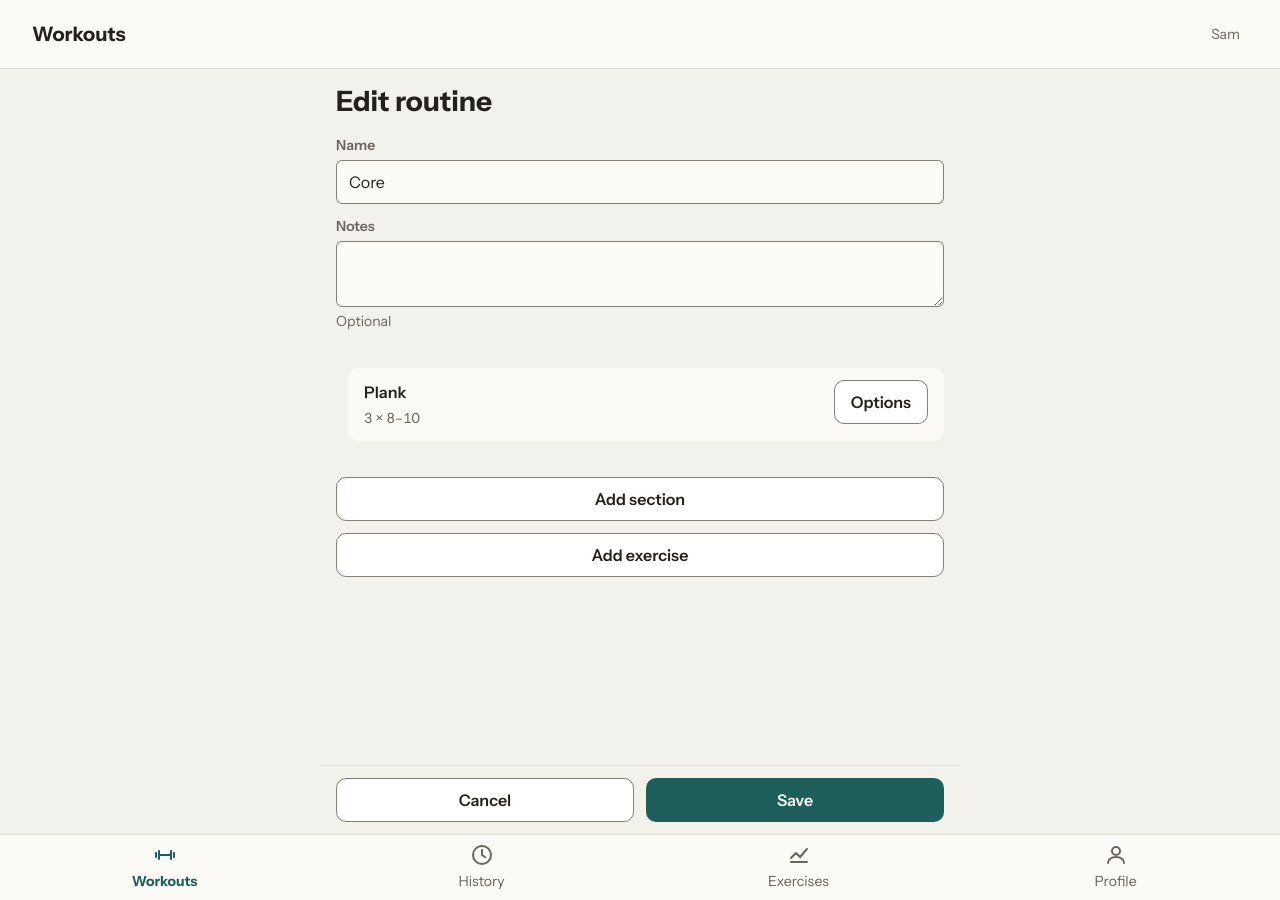
Test: 10.2 AC18 — opening and saving cleans stored values the exercise cannot carry › the sheet shows no Reps; the first Done is a real change (the discard dialog appears)
Click the button "Plank 3 × 8–10" at (385, 392), box 364,380 -> 822,429
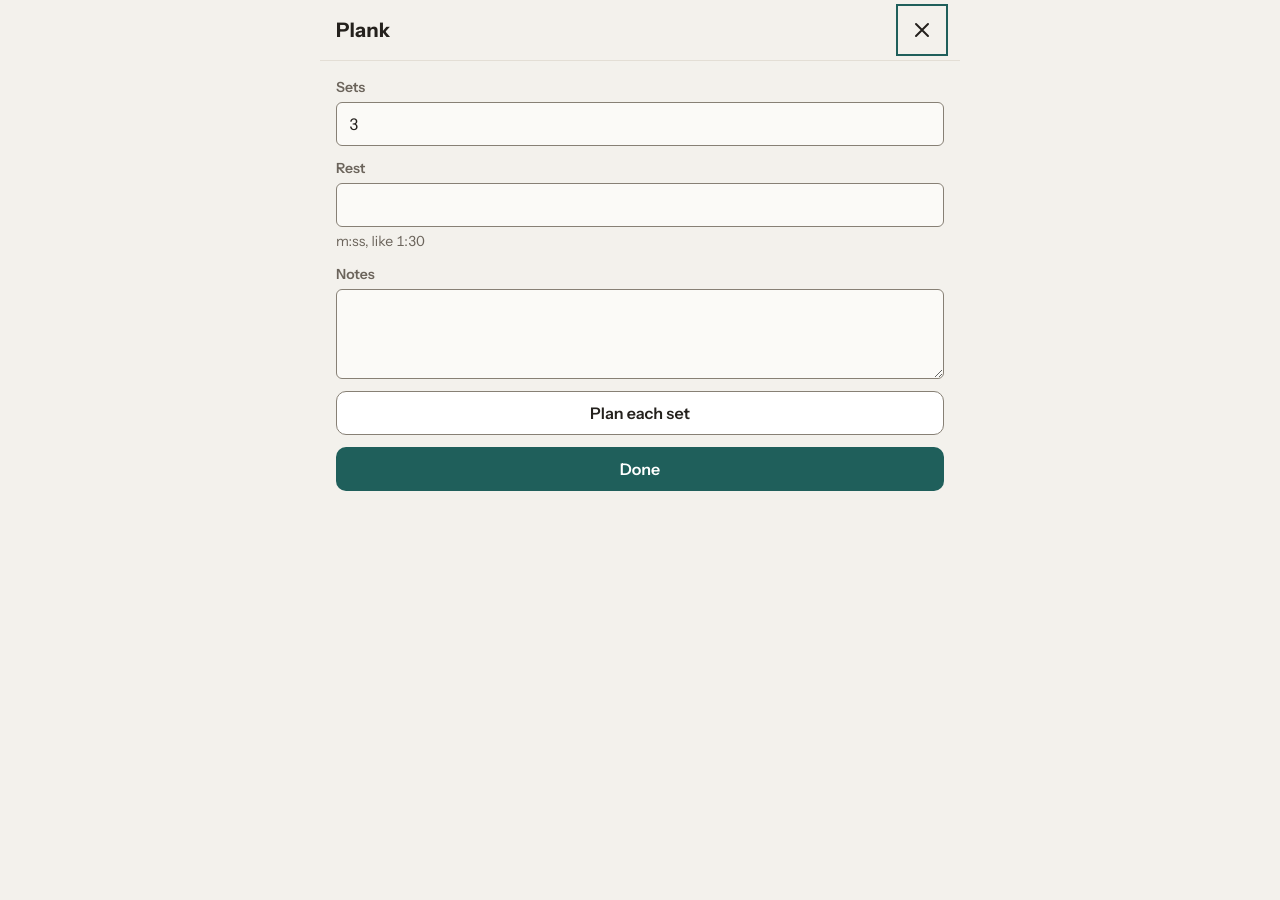
Click the button "Done" at (640, 469), box 336,447 -> 944,491
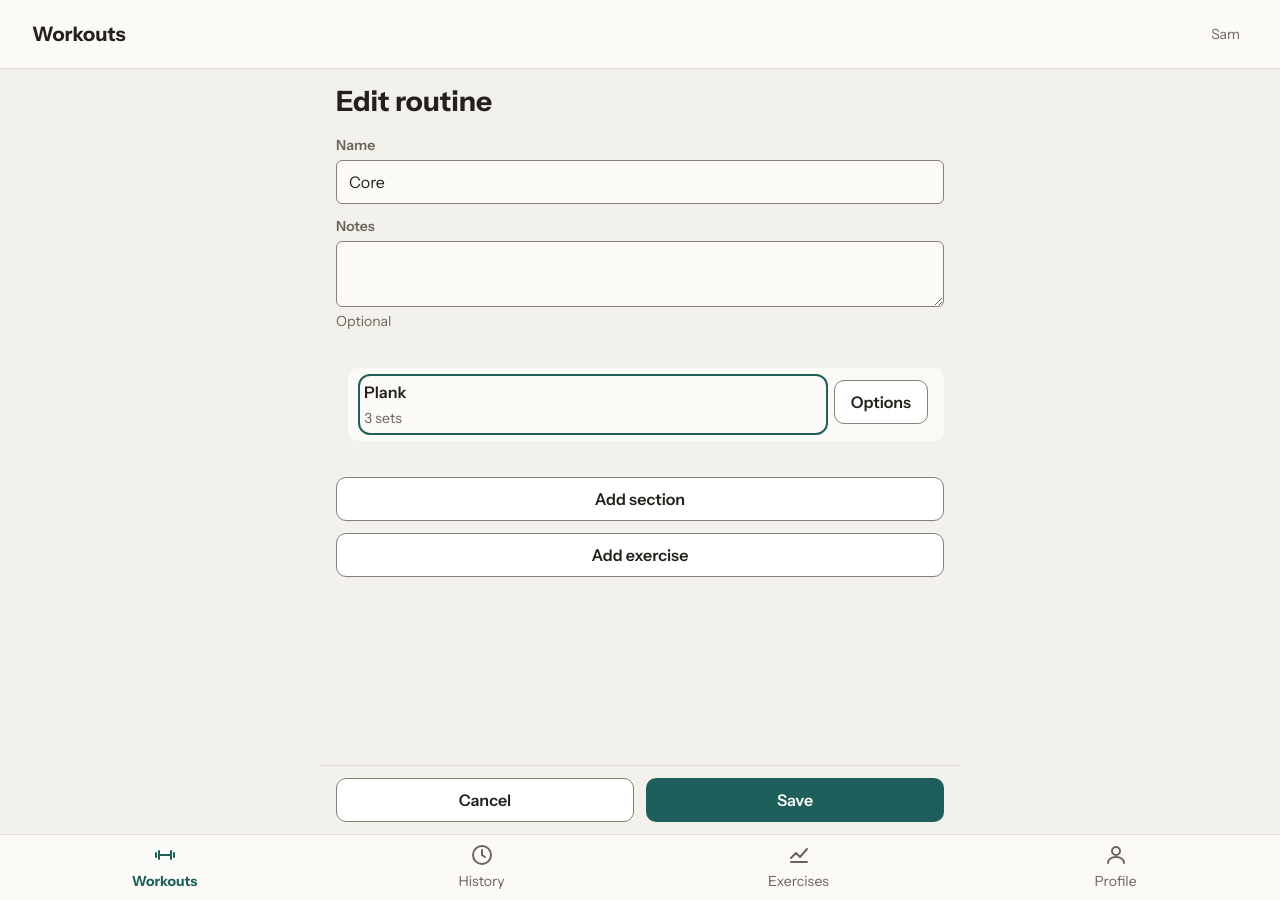
Click the button "Cancel" at (485, 800), box 336,778 -> 634,822
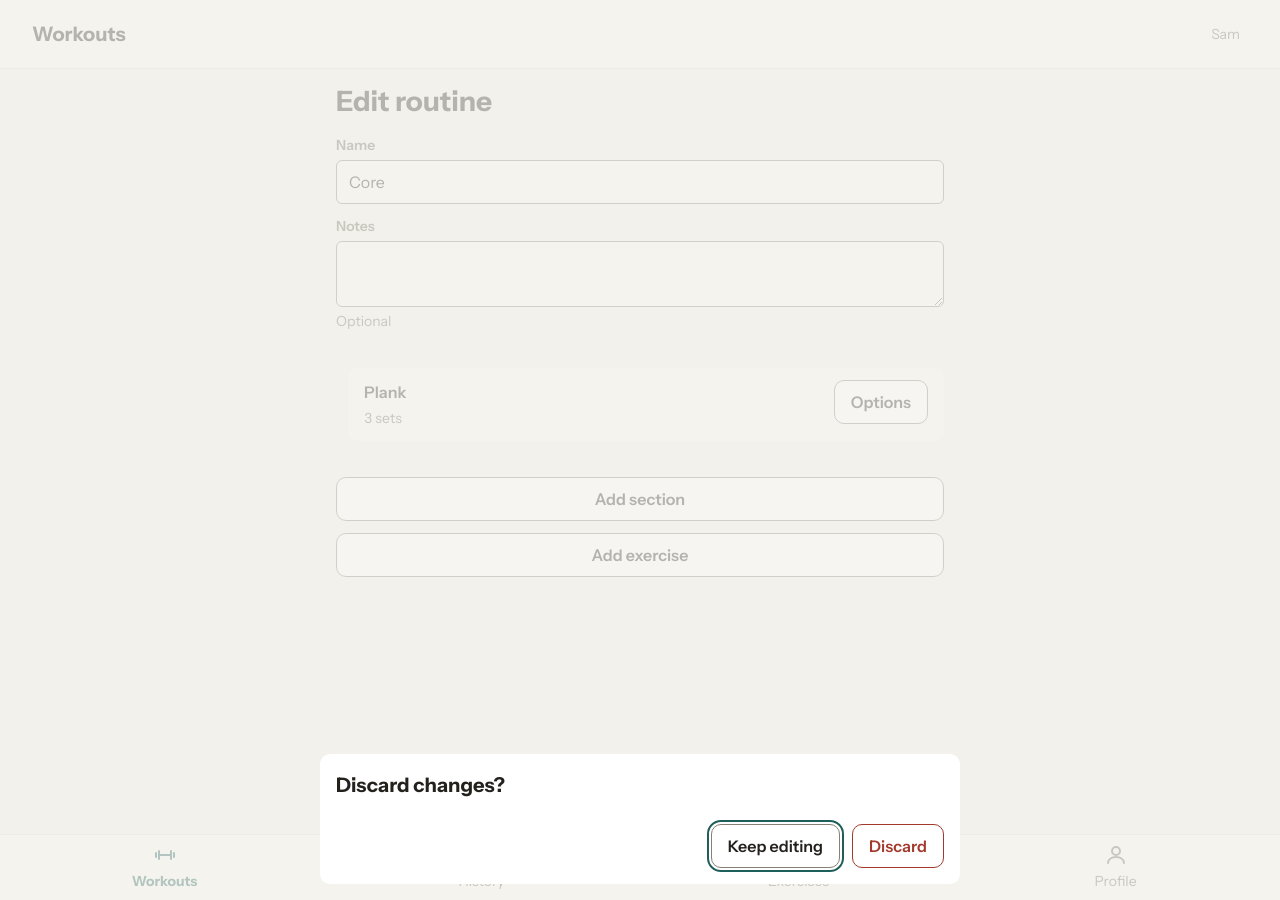
expect the dialog "Discard changes?" is shown: met, box 320,754 -> 960,884
